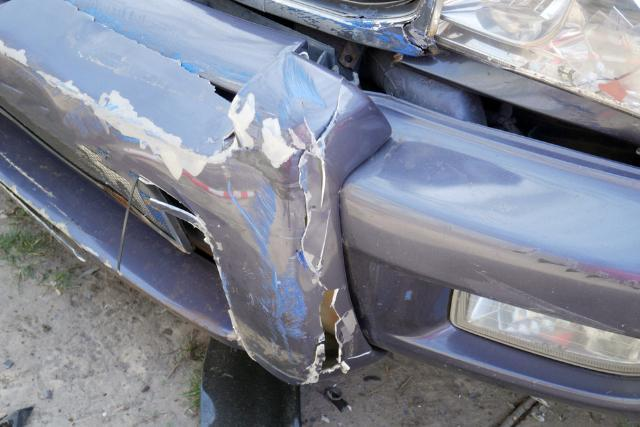Bumper: (43, 0, 410, 383)
